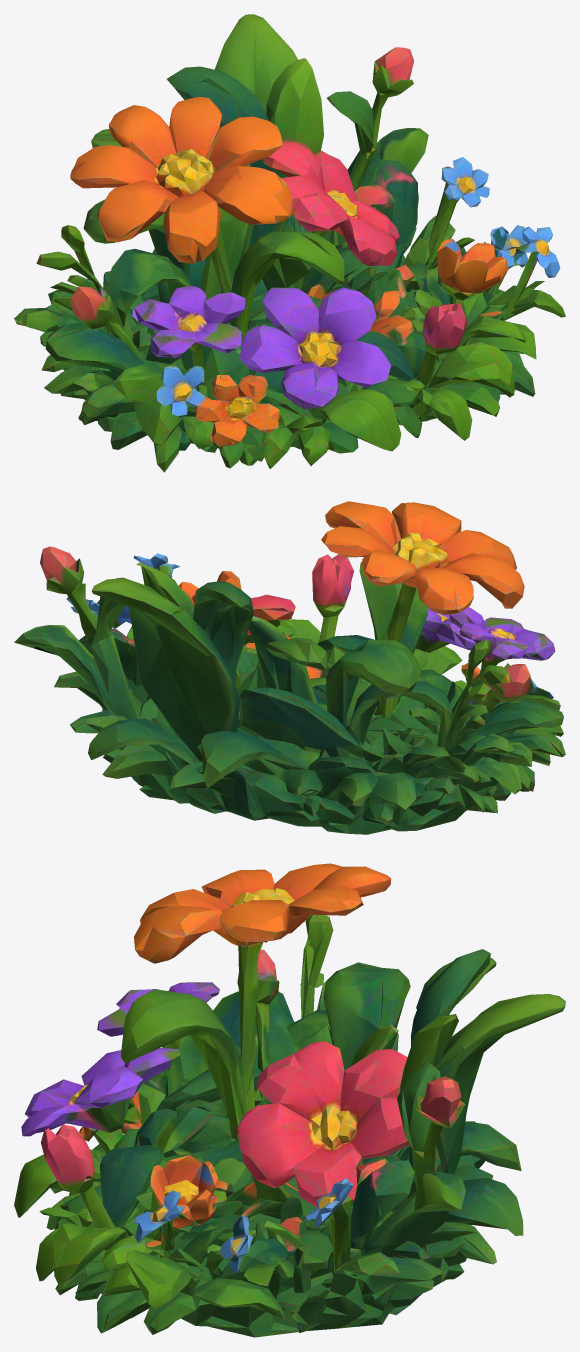
File: garden-blooms.glb
3 renders of one model, top to bottom at view 1: azimuth 30°, elevation 25°; view 2: azimuth 150°, elevation 25°; view 3: azimuth 270°, elevation 25°, orthographic. The views are drawn at different scales.
Visible parts, largest first — view 1: output_unwrapped; view 2: output_unwrapped; view 3: output_unwrapped.
Part boxes in pixels (x1,y1,x2,y2): output_unwrapped: (14,14,565,472); output_unwrapped: (14,501,565,834); output_unwrapped: (14,863,565,1337).
Size of the model in its own units: 1.89 by 1.04 by 1.66.
Materials: 1 (1 with a texture image).
